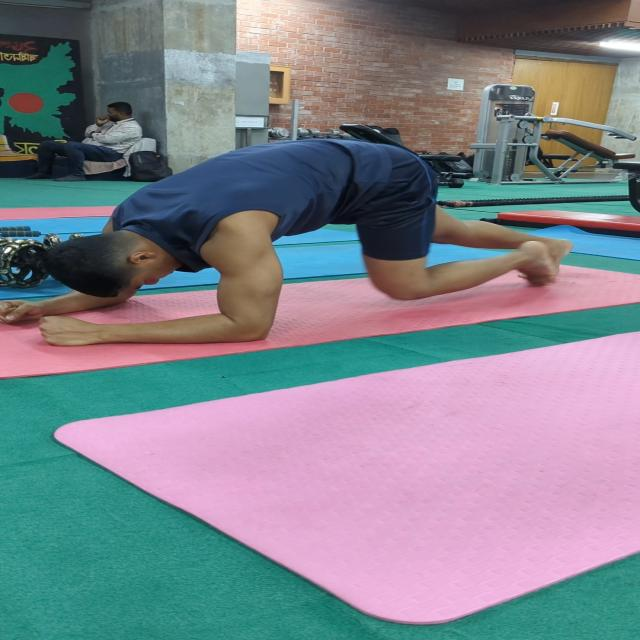Normal_MountainClimbers: (0, 129, 559, 355)
